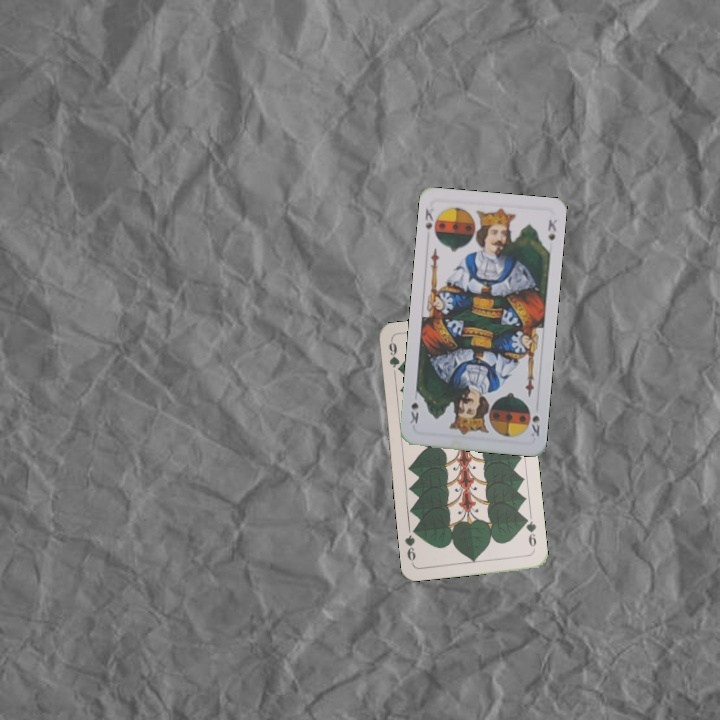G9: (385, 337, 404, 375), (520, 513, 539, 549)
SK: (421, 204, 436, 233), (527, 411, 542, 439)
